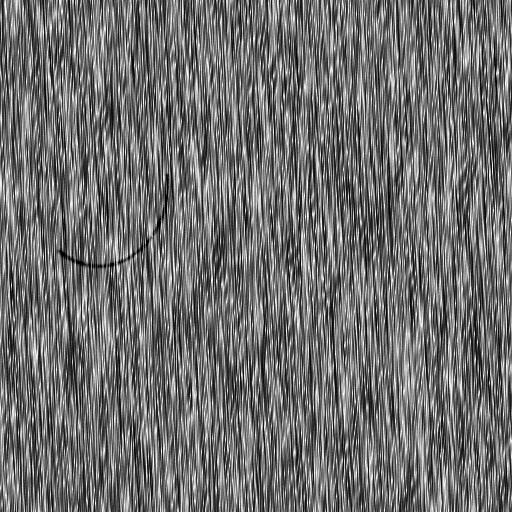DefectTypeC: (64, 174, 171, 268)
